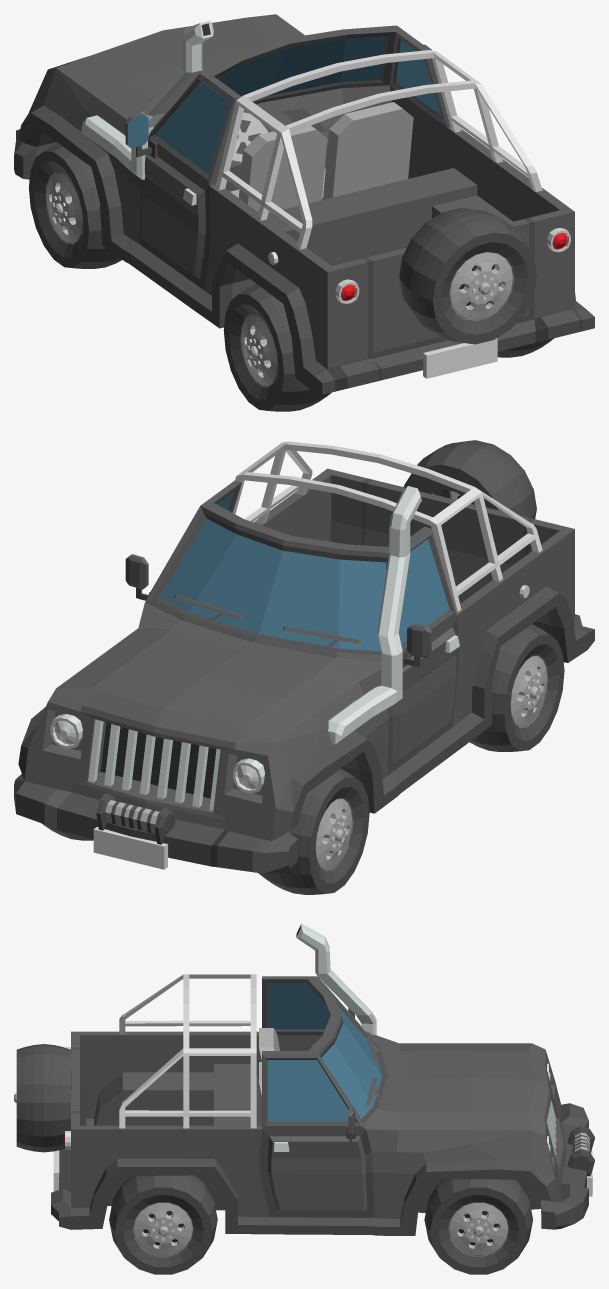
Rendered from jeep.fbx.
The picture shows the model from 3 angles, top to bottom: view 1: azimuth 30°, elevation 25°; view 2: azimuth 150°, elevation 25°; view 3: azimuth 270°, elevation 25°; orthographic projection. The views are drawn at different scales.
Parts seen in each view (by area): view 1: Cube.000; view 2: Cube.000; view 3: Cube.000.
Boxes of the visible parts, box(x1,y1,x2,y2) form: Cube.000: box(14, 14, 594, 411); Cube.000: box(14, 440, 594, 894); Cube.000: box(14, 923, 594, 1274).
Size of the model in its own units: 24.16 by 24.2 by 49.37.
